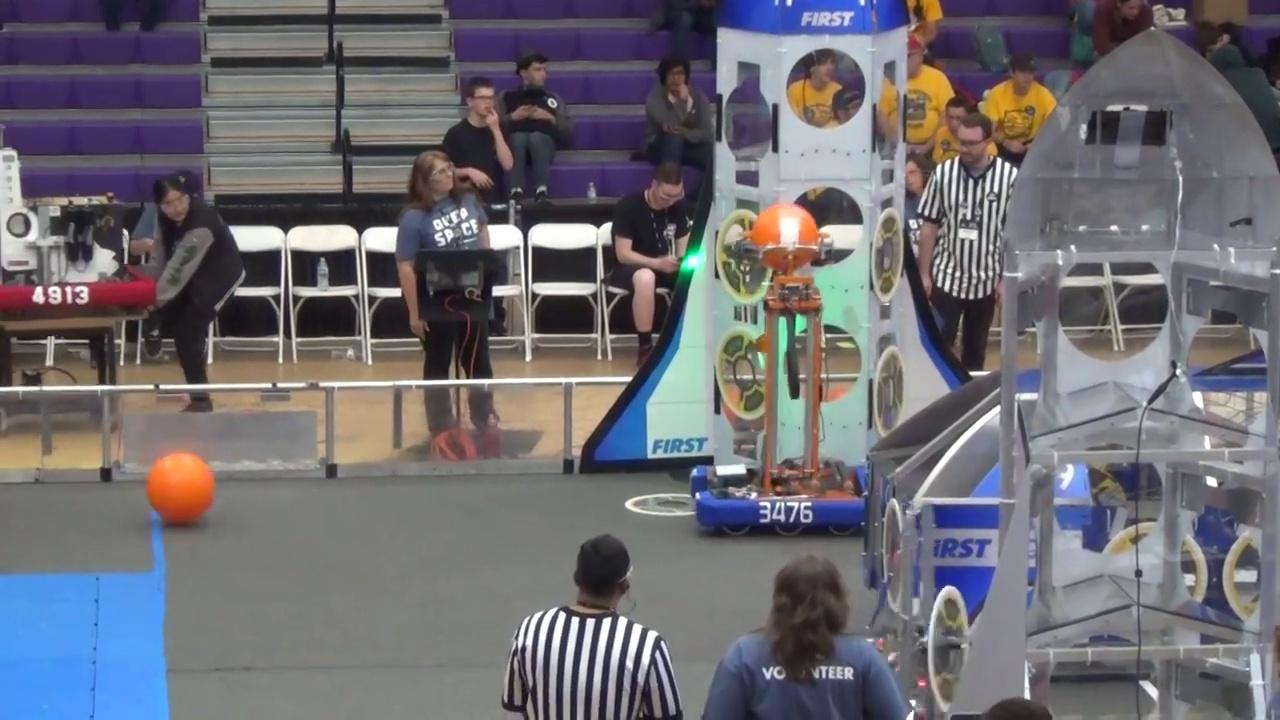robot: (684, 203, 874, 540)
